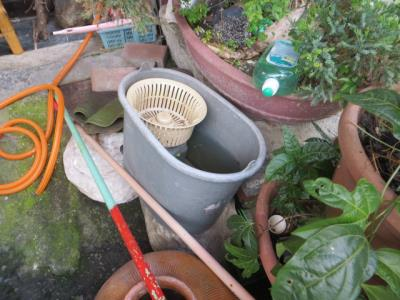bottle: (251, 39, 303, 97)
bucket: (116, 66, 267, 233)
